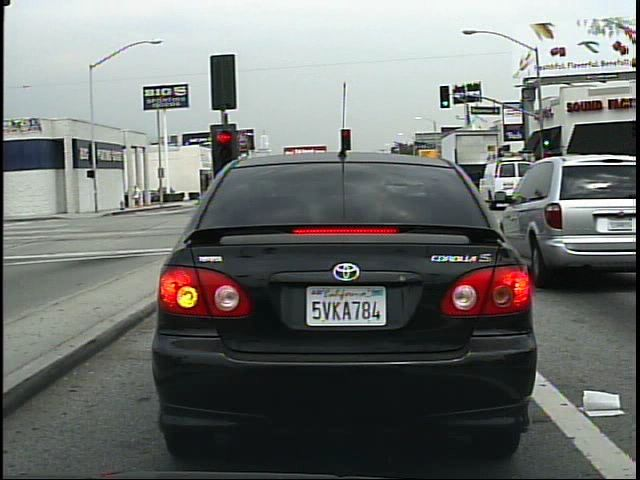car: (129, 104, 562, 468), (490, 146, 640, 282)
